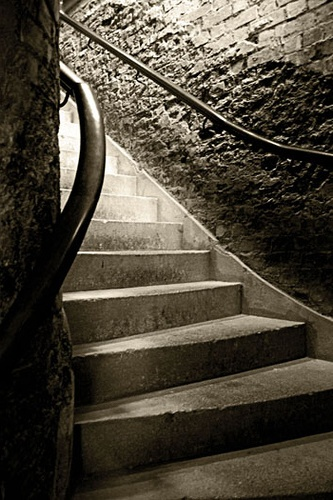stairs_up: (57, 112, 333, 471)
